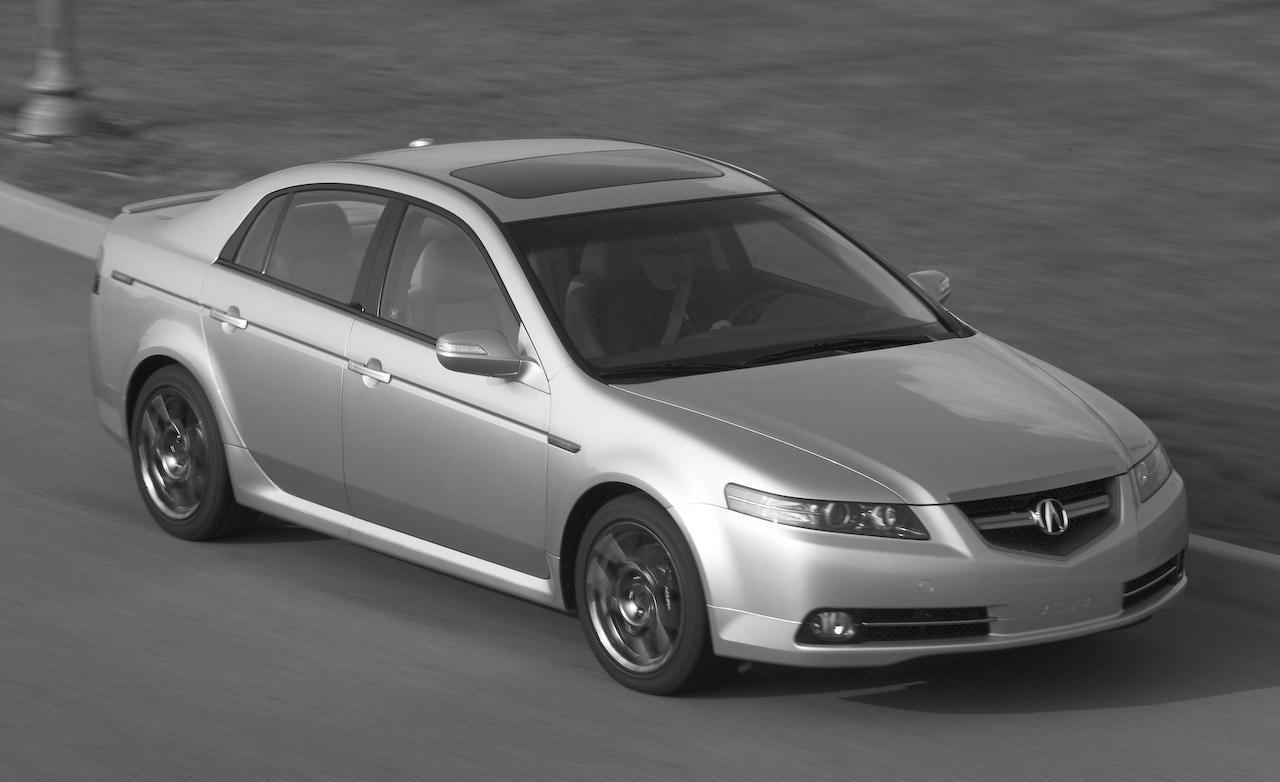car: (89, 134, 1194, 699)
